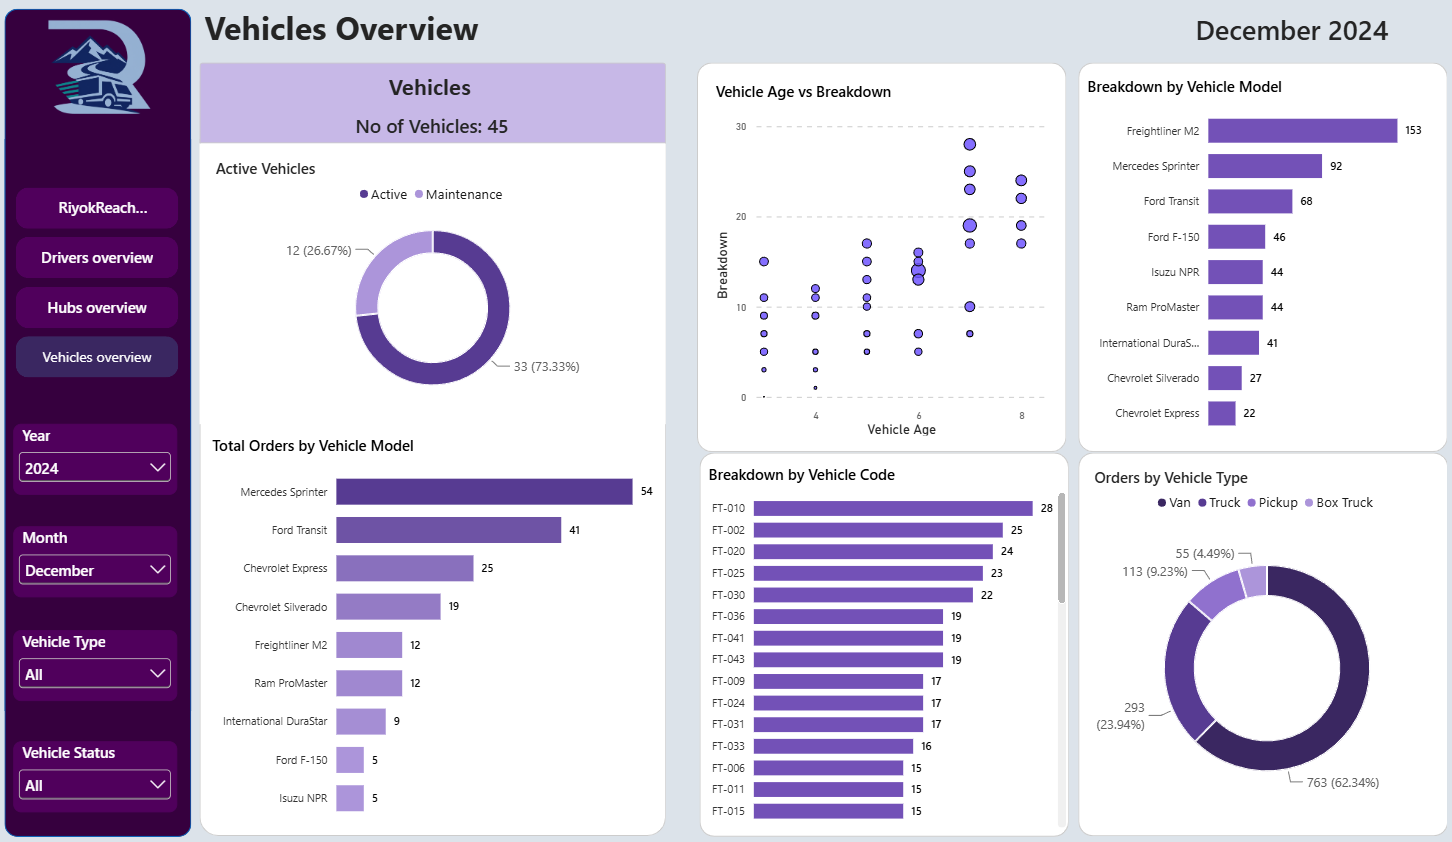

What the dashboard file says about the page in this screenshot:
{"tool":"powerbi","page":{"name":"Vehicles overview","canvas":[1450,850],"ordinal":3},"visuals":[{"type":"shape","box":[12.4,14,185,820],"z":0},{"type":"textbox","box":[210,10,491,43.5],"z":1000},{"type":"slicer","fields":{"Values":["Date Table.Year"]},"box":[21.4,424.5,162,70],"z":2000},{"type":"slicer","fields":{"Values":["Date Table.Month"]},"box":[21.4,525.9,162,70],"z":3000},{"type":"image","box":[6.7,13.3,197.6,114.8],"z":4000},{"type":"cardVisual","fields":{"Data":["Orders.Year Month Title"]},"box":[1146.6,9.3,283,44],"z":5000},{"type":"shape","box":[698.1,66.7,365.7,385.8],"z":6000},{"type":"shape","box":[205.6,70.7,461.8,762.2],"z":7000},{"type":"shape","box":[205.6,66.7,461.8,80.1],"z":8000},{"type":"cardVisual","fields":{"Data":["Vehicles.No of Vehicles"]},"box":[295,113.5,283,28],"z":9000},{"type":"textbox","box":[357.7,76.1,157,31],"z":10000},{"type":"donutChart","title":"Active Vehicles","fields":{"Category":["Vehicles.Vehicle Status"],"Y":["CountNonNull(Vehicles.Vehicle ID)"]},"box":[205.6,146.8,461.8,277.6],"z":11000},{"type":"barChart","fields":{"Category":["Vehicles.Vehicle Model"],"Y":["Orders.Total Orders"]},"box":[209.6,424.5,457.8,408.5],"z":12000},{"type":"shape","box":[700.8,452.5,365.7,380.4],"z":13000},{"type":"shape","box":[1075.5,453,366.3,380],"z":14000},{"type":"shape","box":[1075.9,66.7,365.7,385.8],"z":15000},{"type":"scatterChart","title":"Vehicle Age vs Breakdown","fields":{"Size":["Sum(Vehicles.Breakdown)1"],"X":["Vehicles.Vehicle Age"],"Y":["Vehicles.Breakdown"]},"box":[700.8,70.7,363.1,381.8],"z":16000},{"type":"barChart","title":"Breakdown by Vehicle Code","fields":{"Category":["Vehicles.Vehicle Code"],"Y":["Sum(Vehicles.Breakdown)"]},"box":[700.8,452.5,363.1,380.4],"z":17000},{"type":"barChart","title":"Breakdown by Vehicle Model","fields":{"Category":["Vehicles.Vehicle Model"],"Y":["Sum(Vehicles.Breakdown)"]},"box":[1075.9,69.4,373.7,380.4],"z":18000},{"type":"donutChart","title":"Orders by Vehicle Type","fields":{"Category":["Orders.Vehicle Type"],"Y":["Orders.Total Orders"]},"box":[1075.5,453,373.8,380],"z":19000},{"type":"pageNavigator","box":[24,190.9,161.5,188.2],"z":20000},{"type":"slicer","fields":{"Values":["Orders.Vehicle Type"]},"box":[21.4,628.7,162,70],"z":21000},{"type":"slicer","fields":{"Values":["Vehicles.Vehicle Status"]},"box":[21.4,739.5,162,70],"z":22000}]}

Visuals, with their boxes in screenshot pixels (x1, y1, x2, y2), scaled from the page's 1450x850 canvas onto the 1452x842 screenshot:
shape: 12/14/198/826
textbox: 210/10/702/53
slicer - Date Table.Year: 21/421/184/490
slicer - Date Table.Month: 21/521/184/590
image: 7/13/205/127
cardVisual - Orders.Year Month Title: 1148/9/1432/53
shape: 699/66/1065/448
shape: 206/70/668/825
shape: 206/66/668/145
cardVisual - Vehicles.No of Vehicles: 295/112/579/140
textbox: 358/75/515/106
"Active Vehicles" donutChart: 206/145/668/420
barChart - Vehicles.Vehicle Model x Orders.Total Orders: 210/421/668/825
shape: 702/448/1068/825
shape: 1077/449/1444/825
shape: 1077/66/1444/448
"Vehicle Age vs Breakdown" scatterChart: 702/70/1065/448
"Breakdown by Vehicle Code" barChart: 702/448/1065/825
"Breakdown by Vehicle Model" barChart: 1077/69/1451/446
"Orders by Vehicle Type" donutChart: 1077/449/1451/825
pageNavigator: 24/189/186/376
slicer - Orders.Vehicle Type: 21/623/184/692
slicer - Vehicles.Vehicle Status: 21/733/184/802
